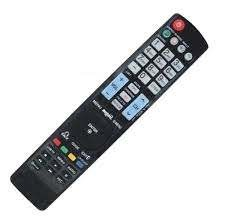remote control: (0, 7, 225, 214)
